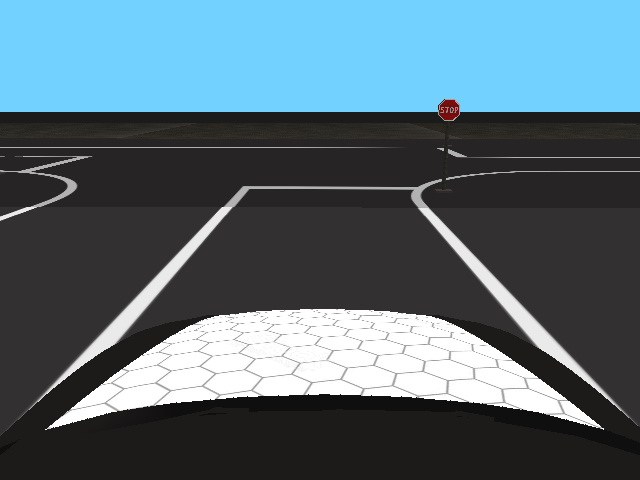stop: (437, 98, 460, 121)
